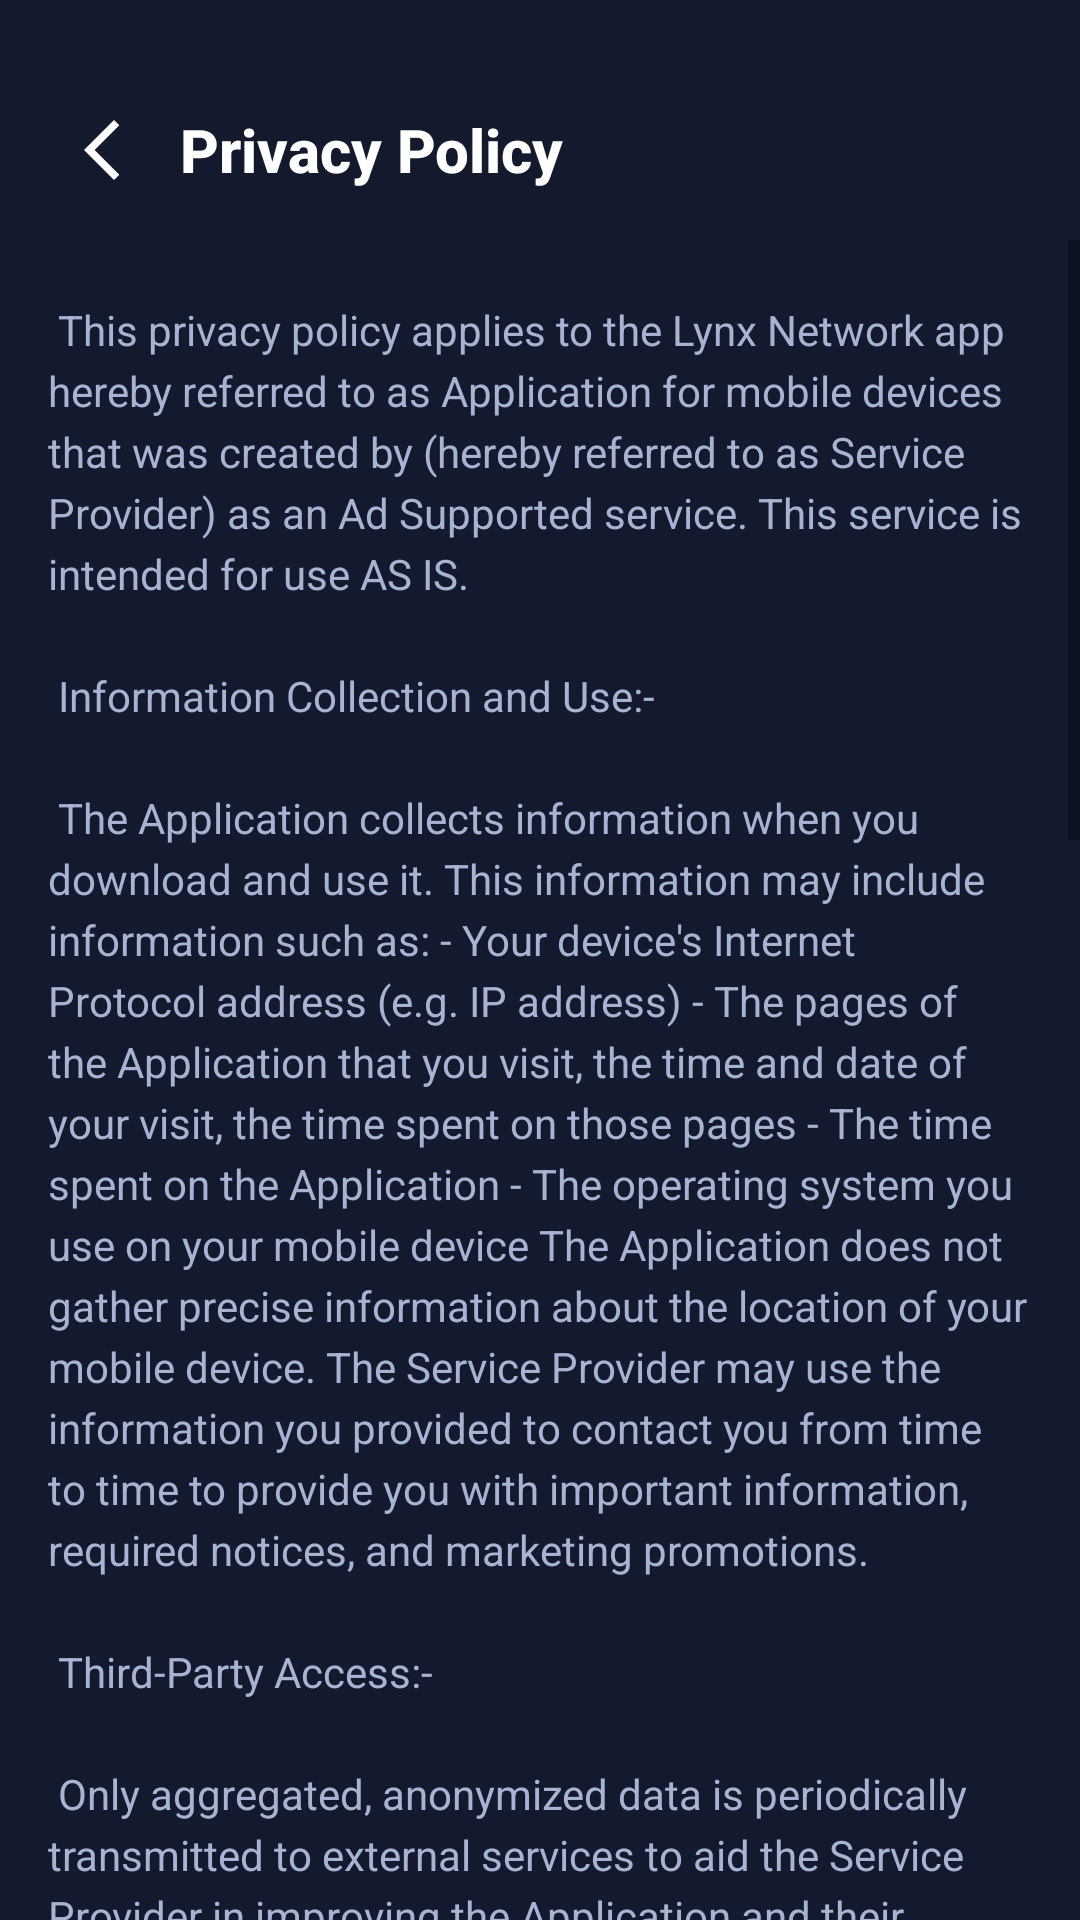

Point at icon controls on the screen. Image size 1080 x 1920, points as (x=x, y=y).
Back: (x=101, y=150)
